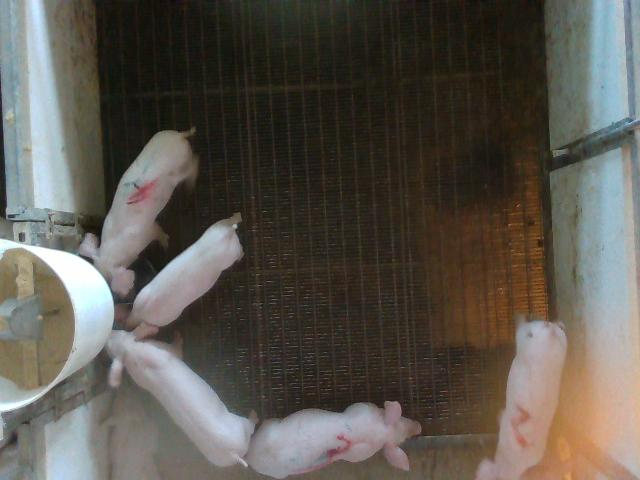pig-2: (476, 320, 568, 479)
pig-3: (245, 401, 421, 478)
pig-4: (80, 130, 198, 296)
